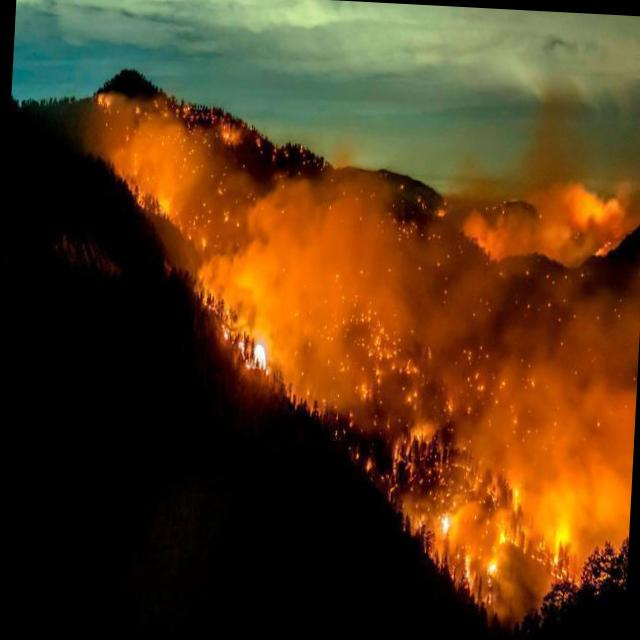Fire: (195, 158, 460, 342), (466, 206, 640, 440), (90, 92, 320, 268), (396, 444, 582, 604), (306, 344, 462, 434), (226, 333, 296, 398)
